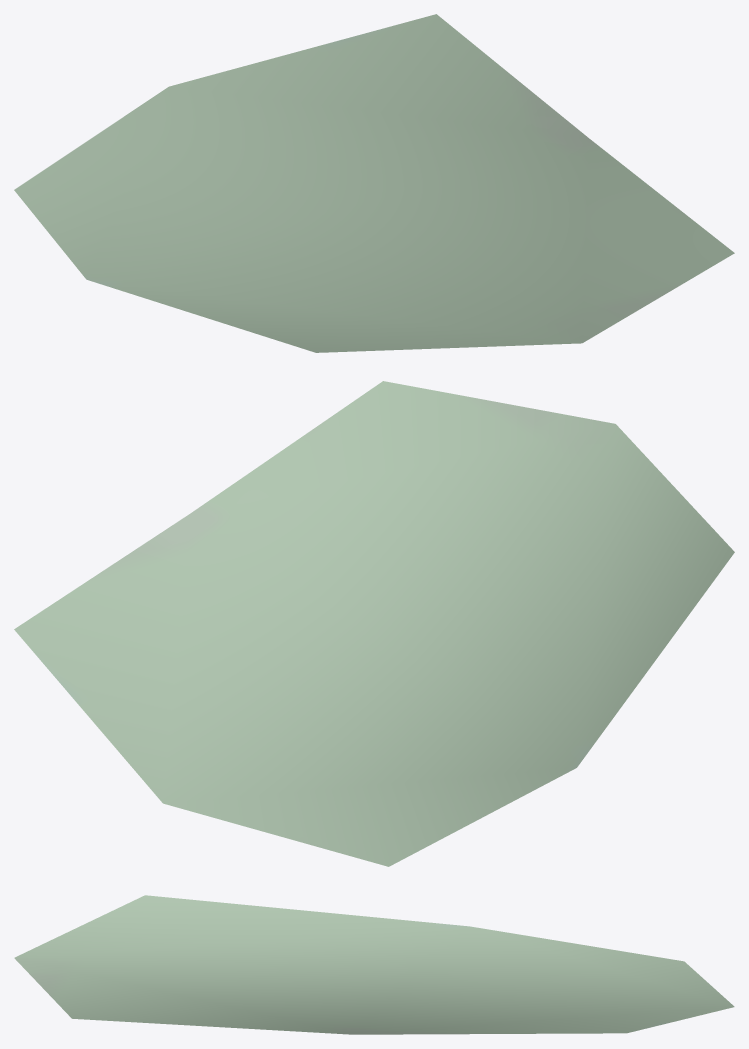
File: TROLLHOLE02_HOLECAP77.fbx
3 renders of one model, top to bottom at view 1: azimuth 30°, elevation 25°; view 2: azimuth 150°, elevation 25°; view 3: azimuth 270°, elevation 25°, orthographic. The views are drawn at different scales.
Parts seen in each view (by area): view 1: TROLLHOLE02_HOLECAP77; view 2: TROLLHOLE02_HOLECAP77; view 3: TROLLHOLE02_HOLECAP77.
Part boxes in pixels (box(x1,y1,x2,y2)): TROLLHOLE02_HOLECAP77: box(14, 14, 734, 352); TROLLHOLE02_HOLECAP77: box(14, 381, 734, 866); TROLLHOLE02_HOLECAP77: box(14, 895, 734, 1034).
Size of the model in its own units: 13150 by 3131 by 21714.
Materials: 1 (1 with a texture image).
